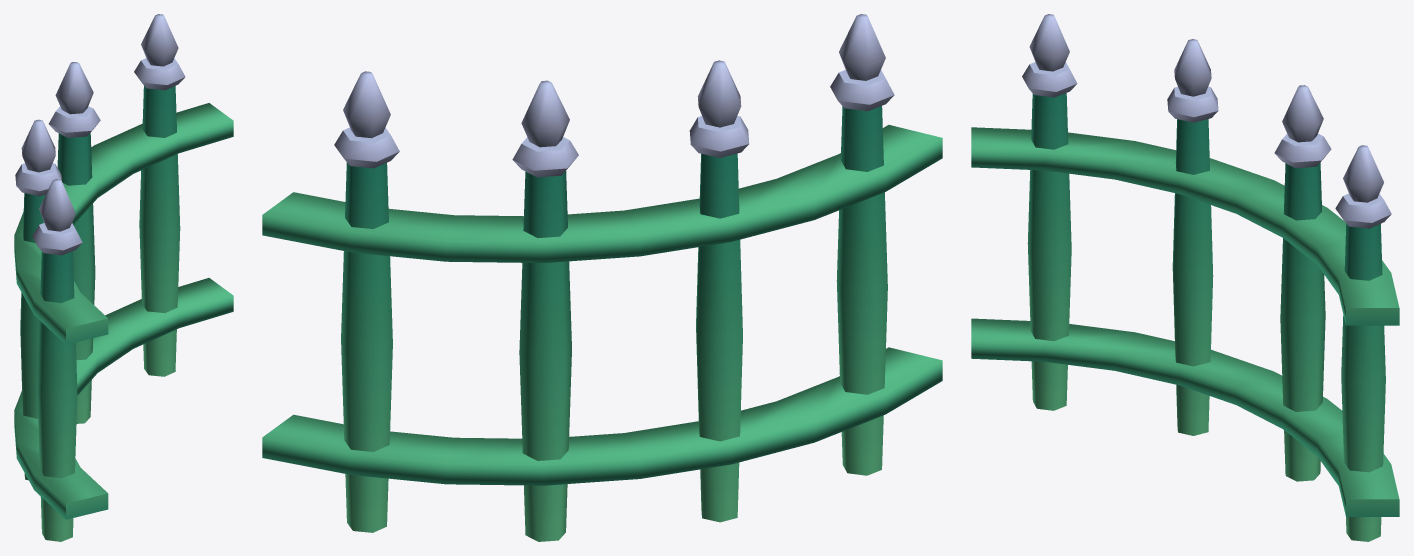
File: kenney-graveyard-iron-fence-curve.glb
The picture shows the model from 3 angles, left to right: view 1: azimuth 30°, elevation 25°; view 2: azimuth 150°, elevation 25°; view 3: azimuth 270°, elevation 25°; orthographic projection. The views are drawn at different scales.
Visible parts, largest first — view 1: iron-fence-curve; view 2: iron-fence-curve; view 3: iron-fence-curve.
Part boxes in pixels (left/top/right/bottom): iron-fence-curve: left=14, top=14, right=233, bottom=541; iron-fence-curve: left=262, top=14, right=942, bottom=541; iron-fence-curve: left=971, top=14, right=1399, bottom=541.
Size of the model in its own units: 0.88 by 0.8789 by 0.88.
Materials: 1 (1 with a texture image).
